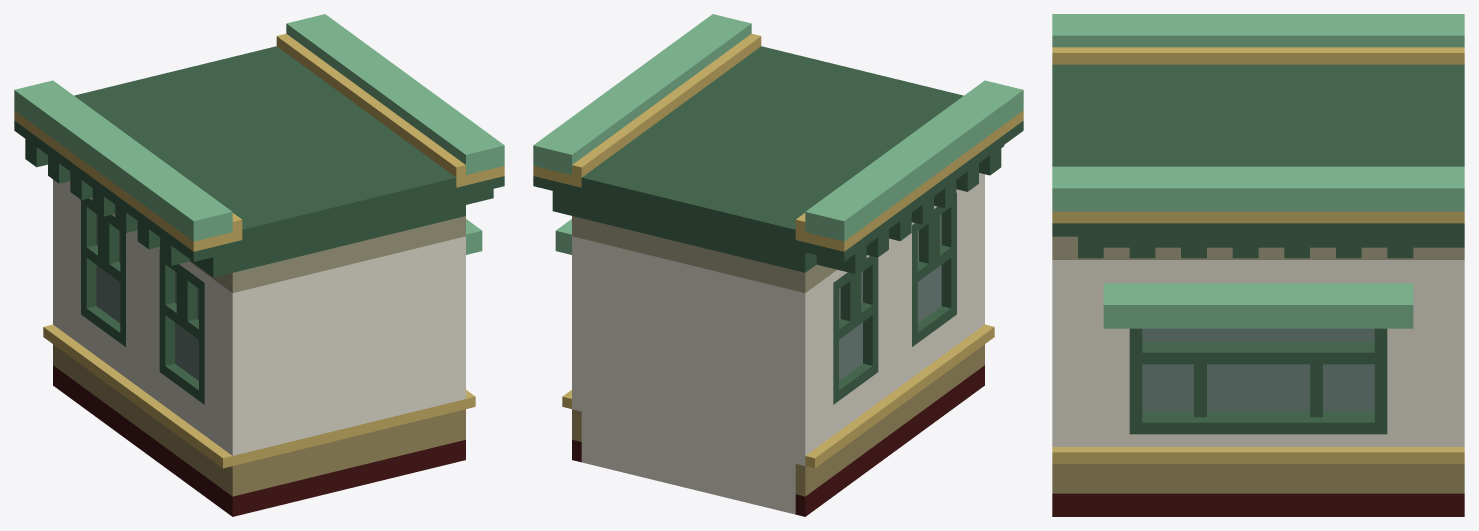
Rendered from tile_1_middle_nb_90.obj.
The picture shows the model from 3 angles, left to right: view 1: azimuth 30°, elevation 25°; view 2: azimuth 150°, elevation 25°; view 3: azimuth 270°, elevation 25°; orthographic projection. The views are drawn at different scales.
Bounding box in the file's own units: 3.2 × 3 × 3.2.
